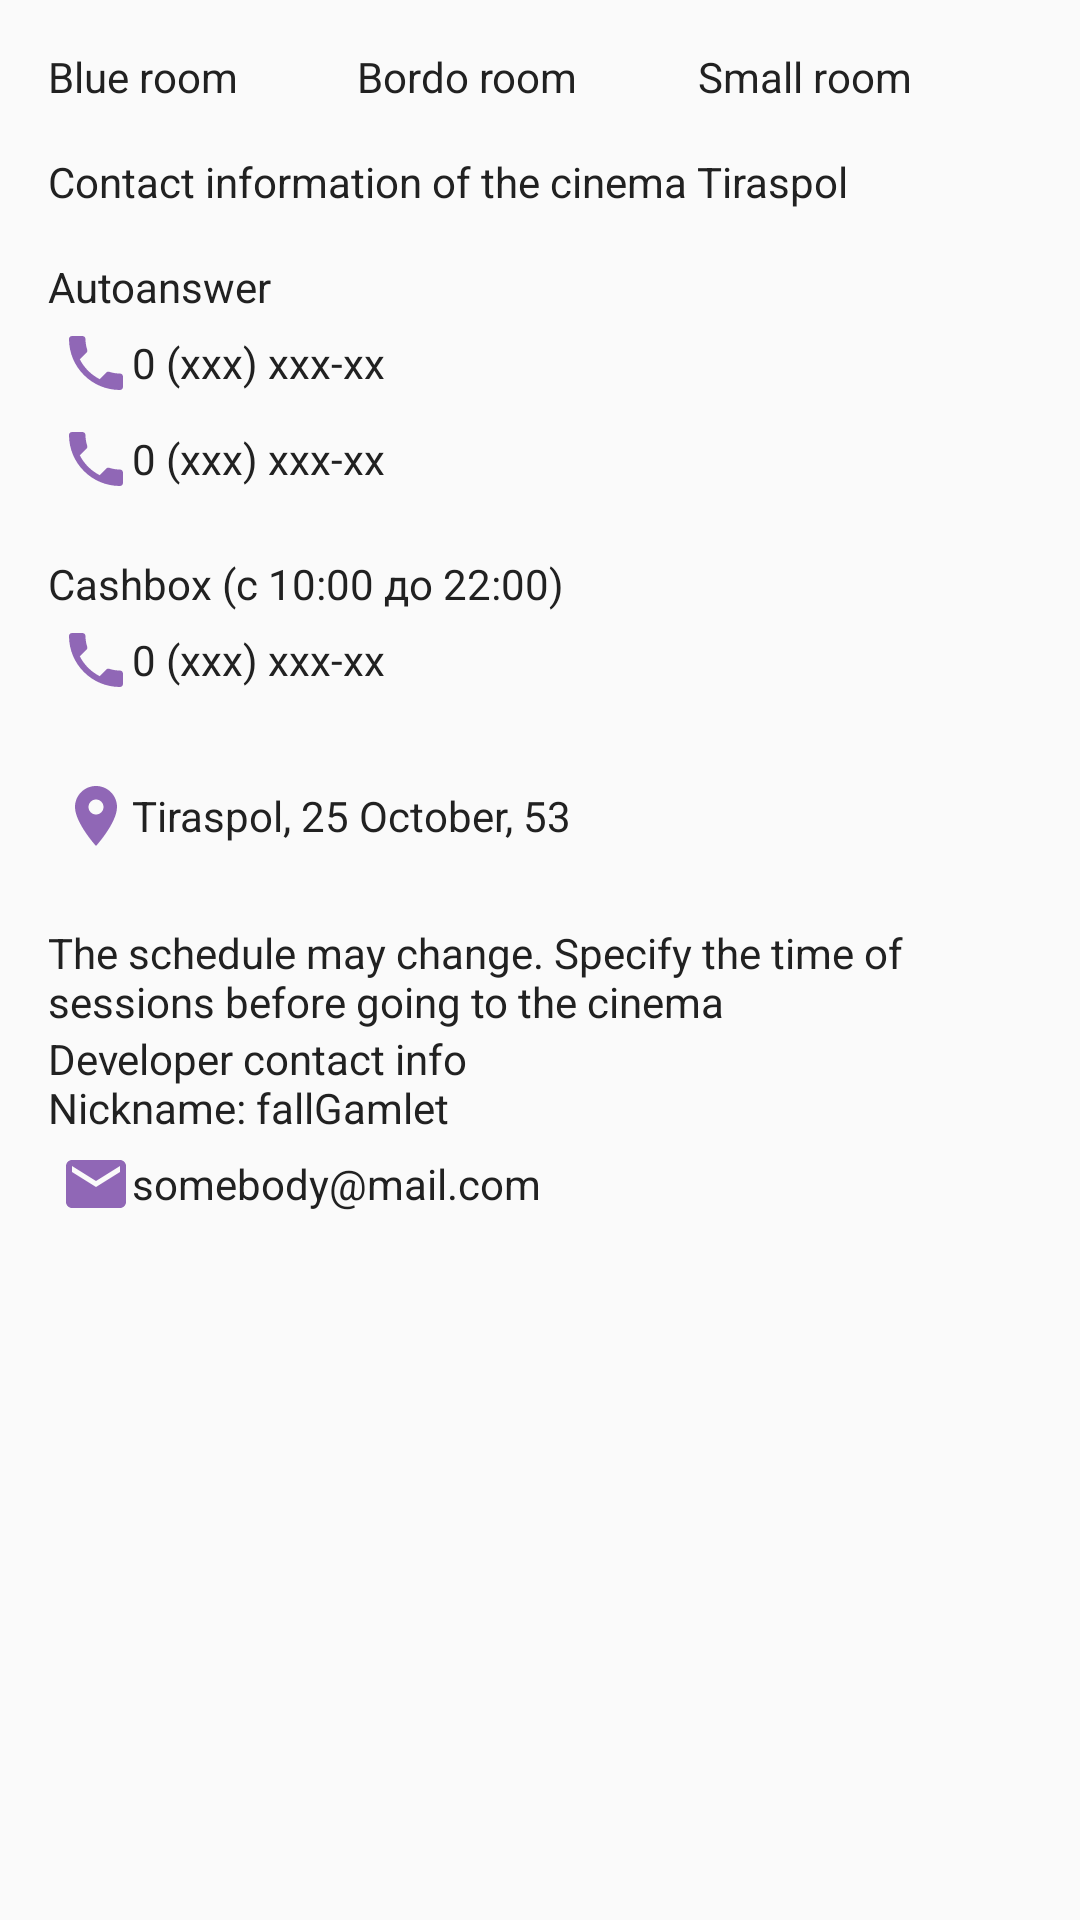

Screen size 1080px x 1920px. Icon name, then its center in pixels as point (x, y):
call: point (96, 363), point (96, 459), point (96, 660)
email: point (96, 1184)
place: point (96, 816)
